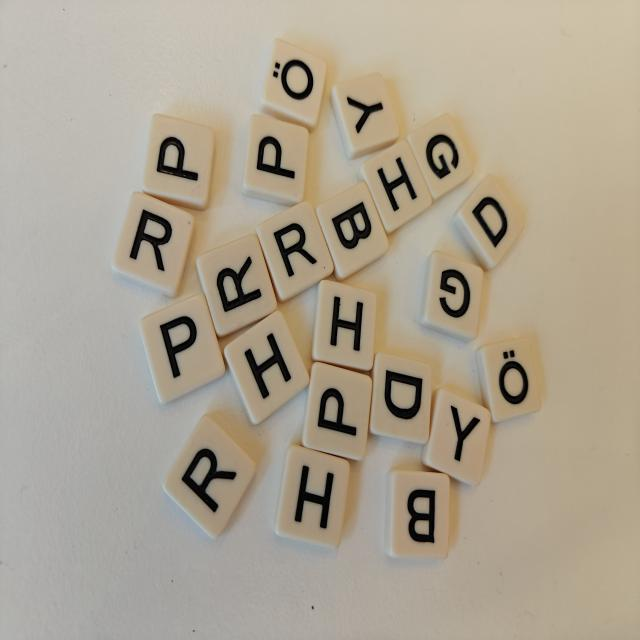b: (316, 182, 388, 281), (385, 469, 450, 558)
d: (453, 175, 523, 270), (369, 352, 431, 444)
g: (420, 251, 484, 341), (407, 114, 473, 200)
h: (224, 311, 309, 424), (275, 445, 350, 548), (359, 141, 432, 234), (312, 280, 377, 371)
o_dot: (261, 39, 326, 130), (476, 338, 540, 422)
p: (139, 295, 225, 403), (302, 362, 372, 460), (142, 114, 214, 209), (243, 115, 309, 207)
r: (163, 415, 256, 538), (112, 192, 194, 297), (196, 235, 277, 336), (256, 201, 334, 302)
y: (422, 388, 491, 485), (331, 73, 399, 159)
